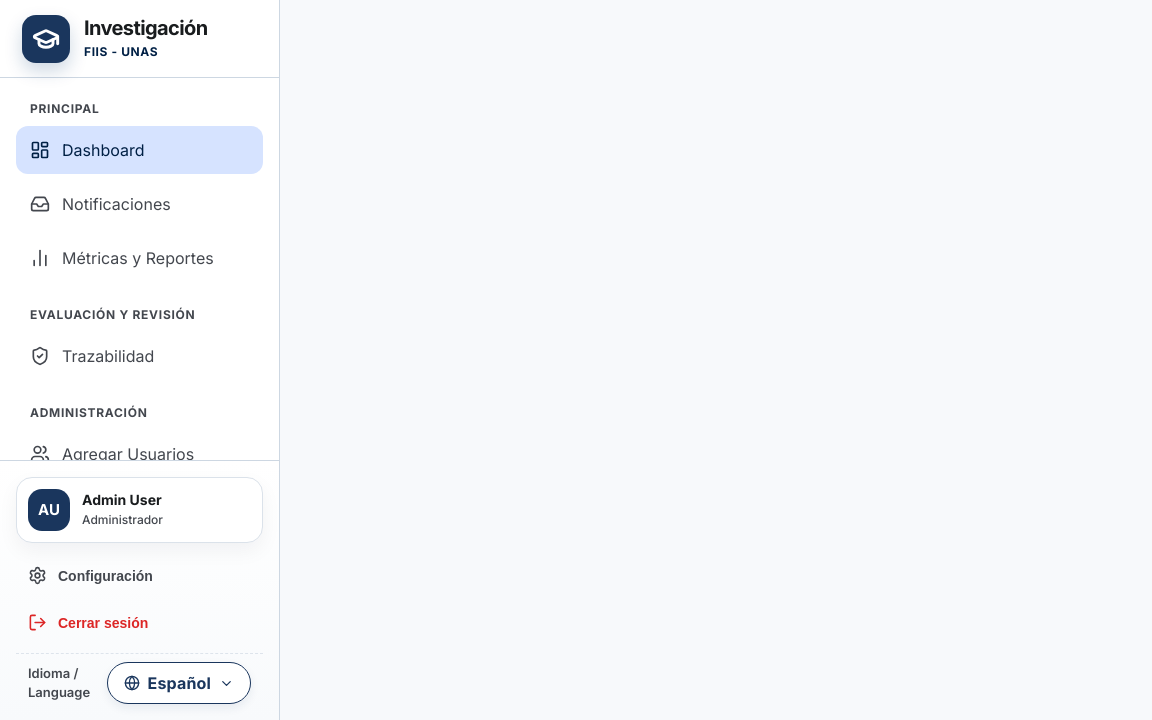
Test: Sidebar › shows logout confirmation modal on logout click
Click the button "Cerrar sesión": click(140, 623) [16, 602, 263, 643]
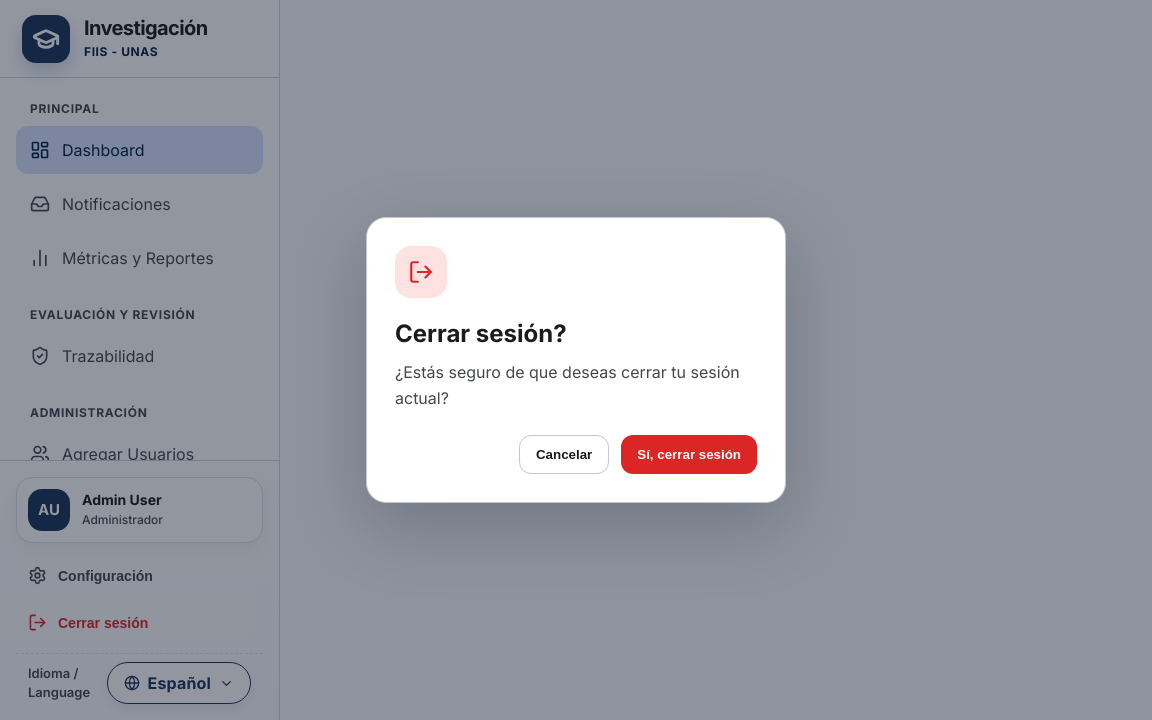
Now the dialog is shown
